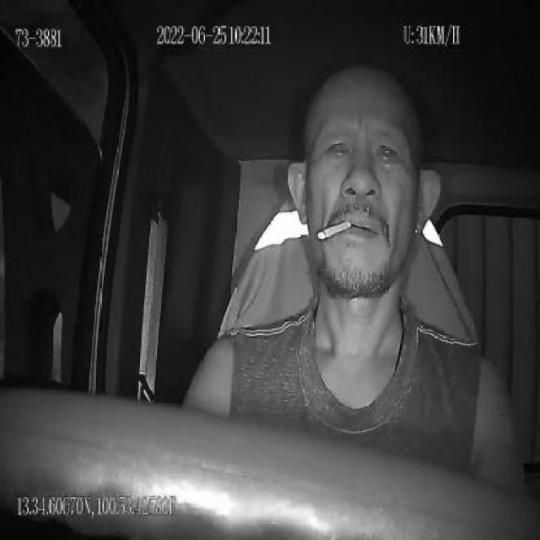smoking: (316, 218, 352, 239)
